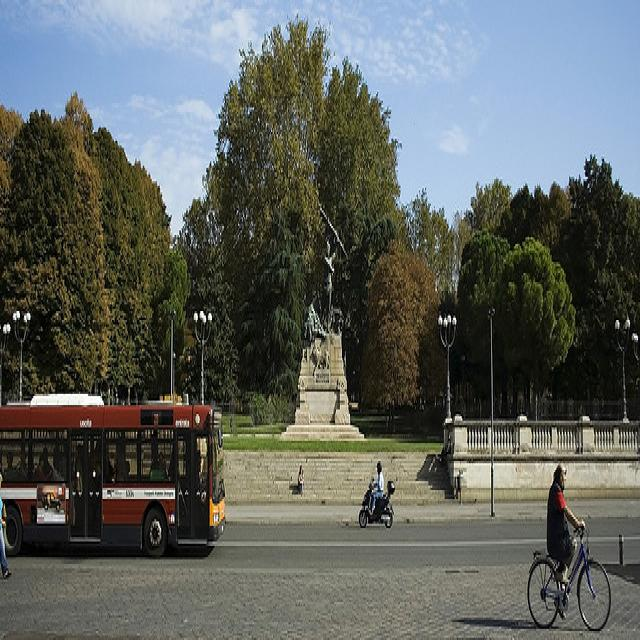motor: (358, 473, 396, 532)
